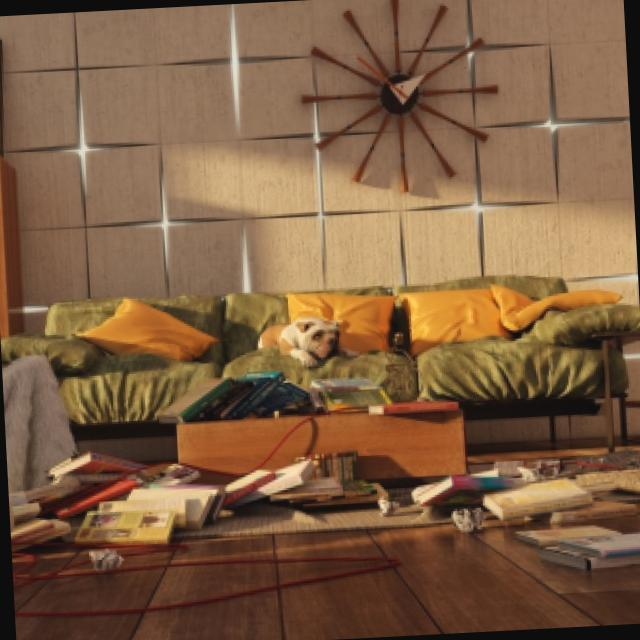mess: (17, 401, 640, 640), (35, 258, 638, 417)
